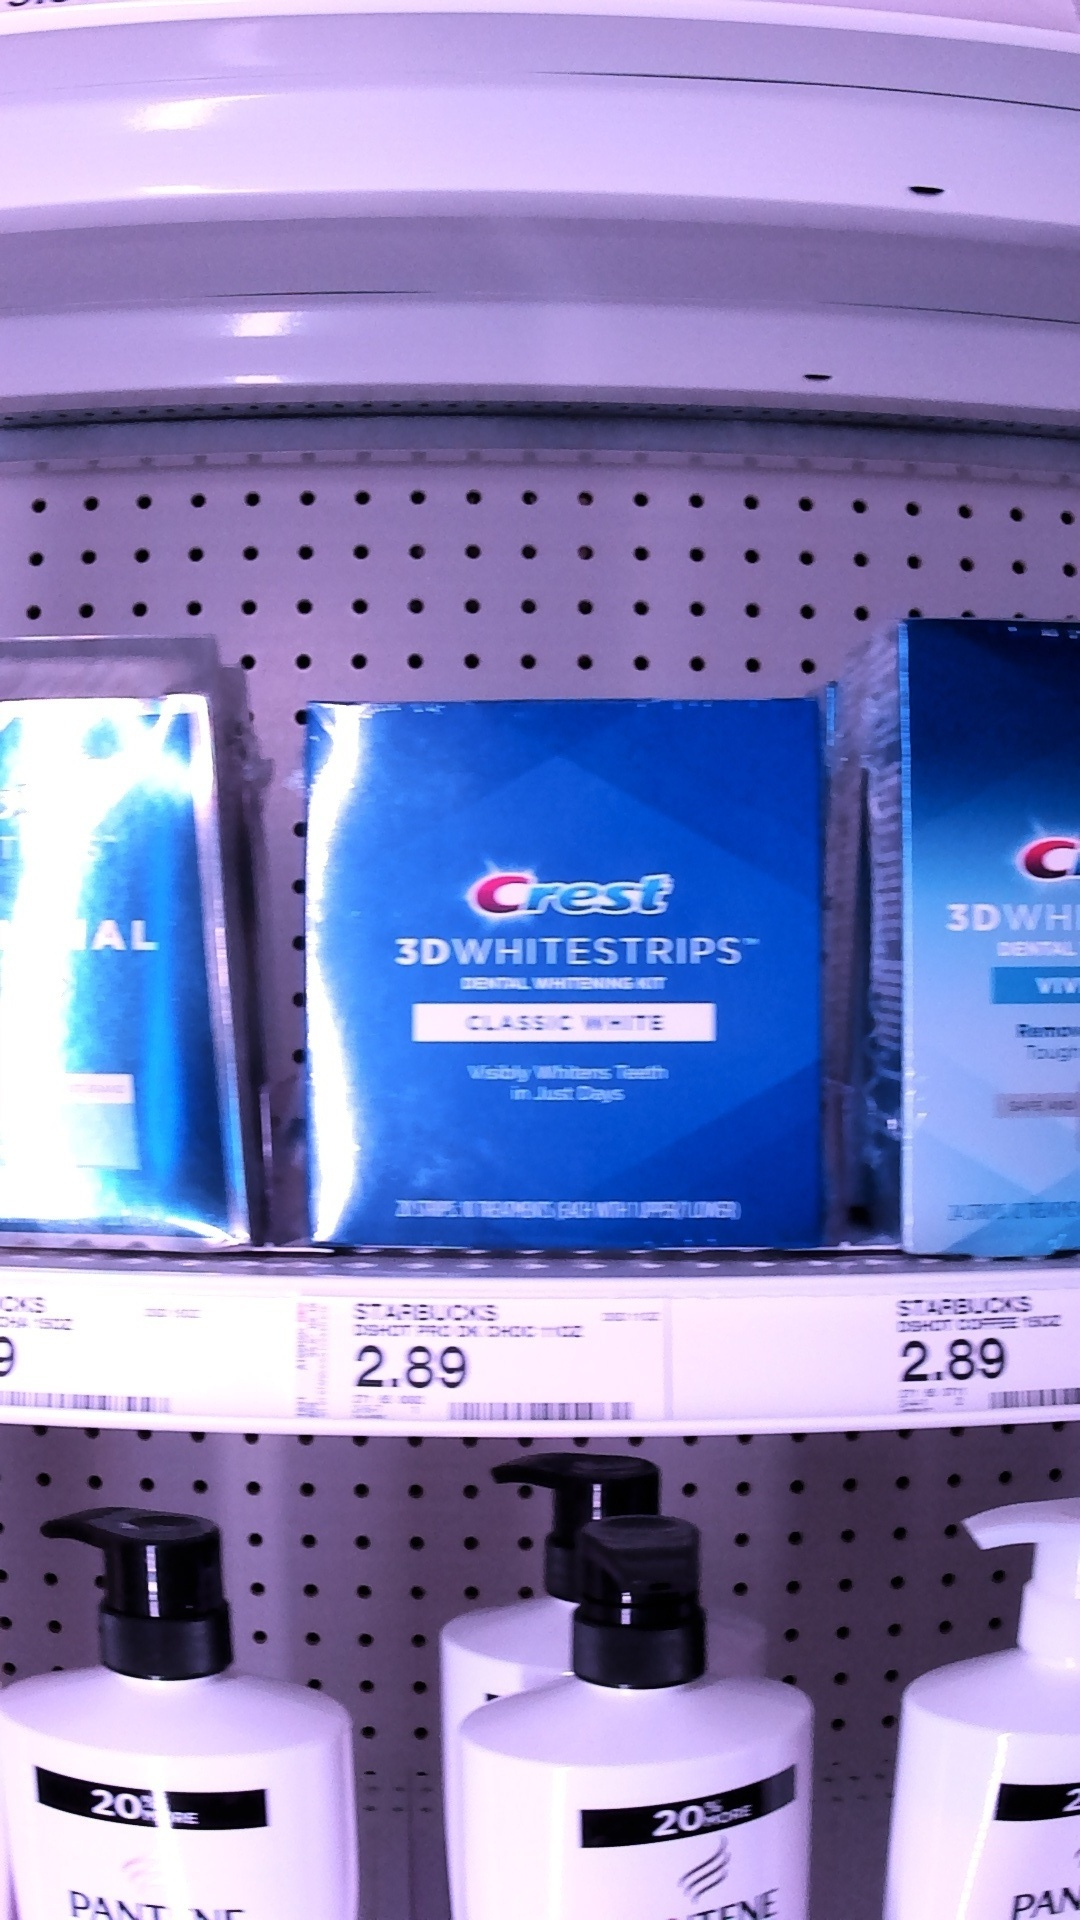ptag: (284, 1273, 694, 1443), (872, 1262, 1080, 1433)
